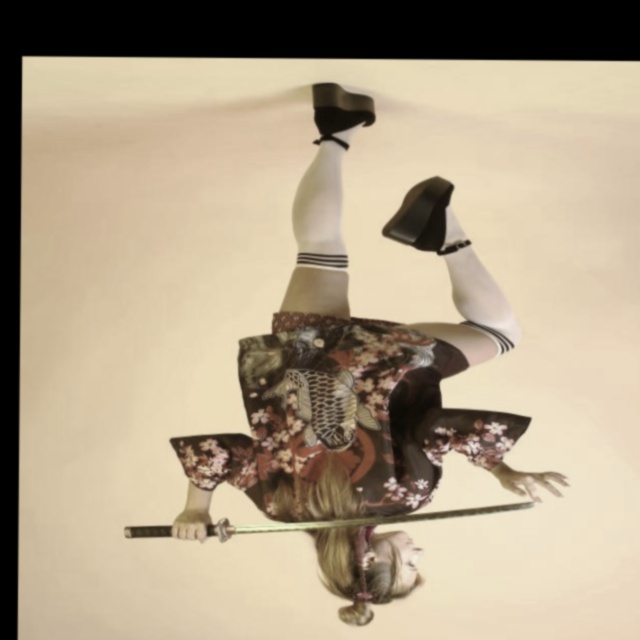Sharp-Object: (111, 488, 546, 546)
